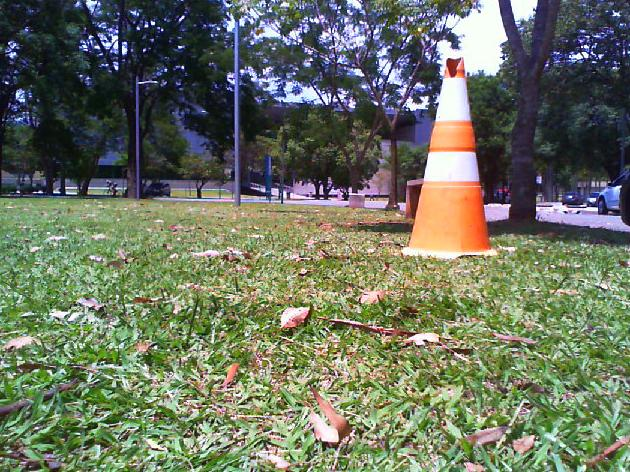0 cone: (402, 58, 496, 258)
